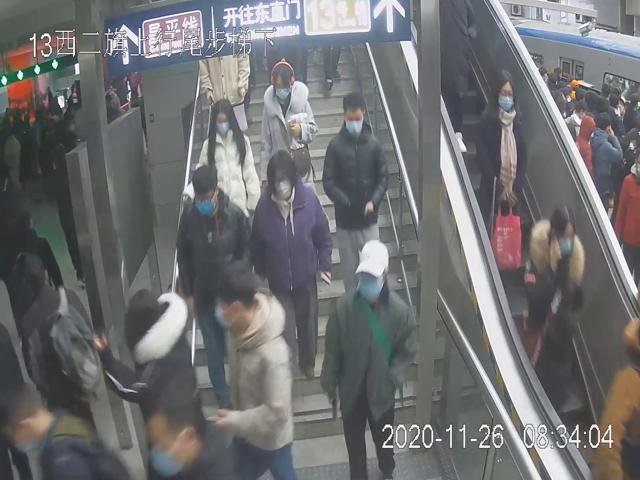person: (318, 239, 419, 480), (174, 164, 253, 413), (210, 256, 296, 480), (251, 148, 333, 381), (524, 203, 588, 422), (322, 89, 387, 303), (474, 64, 528, 262), (193, 96, 261, 228), (259, 56, 319, 178)
